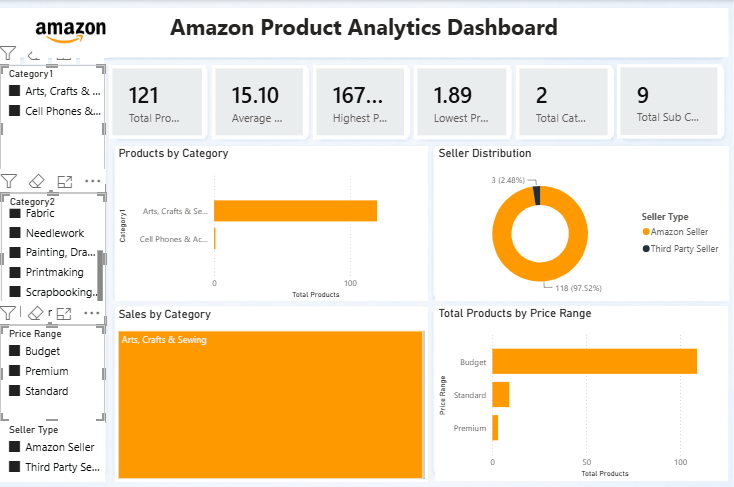

The page's visual inventory and layout, read from the dashboard file:
{"tool":"powerbi","page":{"name":"Page 1","canvas":[1280,720],"ordinal":0},"visuals":[{"type":"image","box":[5.3,0,1270.7,720.4],"z":0},{"type":"textbox","box":[108.9,11.5,1065.6,72],"z":1000},{"type":"cardVisual","fields":{"Data":["Amazon.Total Products"]},"box":[267.6,94.7,141.3,108.4],"z":2000},{"type":"cardVisual","fields":{"Data":["Amazon.Average Price"]},"box":[418.5,94.7,138.2,108.8],"z":3000},{"type":"cardVisual","fields":{"Data":["Amazon.Highest Price"]},"box":[566.7,94.7,138.2,108.8],"z":4000},{"type":"cardVisual","fields":{"Data":["Amazon.Lowest Price"]},"box":[713.6,94.5,140.6,108.8],"z":5000},{"type":"cardVisual","fields":{"Data":["Amazon.Total Categories"]},"box":[863.6,94.5,139.4,108.8],"z":6000},{"type":"cardVisual","fields":{"Data":["Amazon.Total Sub Categories"]},"box":[1011.8,93.6,152.7,109.1],"z":7000},{"type":"clusteredBarChart","title":" Products by Category","fields":{"Category":["Amazon.Category1"],"Y":["Amazon.Total Products"]},"box":[277.3,213.6,458.2,227.3],"z":8000},{"type":"donutChart","title":"Seller Distribution","fields":{"Category":["Amazon.Seller Type"],"Y":["Amazon.Total Products"]},"box":[745.1,214.1,429.6,226.8],"z":9000},{"type":"treemap","title":"Sales by Category","fields":{"Values":["Amazon.Total Sales"],"Group":["Amazon.Category1"]},"box":[277.2,449.1,457.9,256.1],"z":10000},{"type":"clusteredBarChart","fields":{"Y":["Amazon.Total Products"],"Category":["Amazon.Price Range"]},"box":[745.5,448.5,428.8,256.1],"z":11000},{"type":"slicer","fields":{"Values":["Amazon.Category1"]},"box":[108.8,95,153.8,187.5],"z":12000},{"type":"slicer","fields":{"Values":["Amazon.Category2"]},"box":[110,282.5,153.8,192.5],"z":13000},{"type":"slicer","fields":{"Values":["Amazon.Price Range"]},"box":[108.8,475,153.8,142.5],"z":14000},{"type":"slicer","fields":{"Values":["Amazon.Seller Type"]},"box":[108.8,616.2,153.8,88.8],"z":15000},{"type":"image","box":[108.8,11.2,207.5,72.5],"z":16000}]}

Visuals, with their boxes on the page's 1280x720 design canvas (x1, y1, x2, y2). These are canvas units, not pixel positions in the 734x487 screenshot, which may show the page scaled, cropped or inside an application window:
image: rect(5, 0, 1276, 720)
textbox: rect(109, 12, 1174, 84)
cardVisual - Amazon.Total Products: rect(268, 95, 409, 203)
cardVisual - Amazon.Average Price: rect(418, 95, 557, 204)
cardVisual - Amazon.Highest Price: rect(567, 95, 705, 204)
cardVisual - Amazon.Lowest Price: rect(714, 94, 854, 203)
cardVisual - Amazon.Total Categories: rect(864, 94, 1003, 203)
cardVisual - Amazon.Total Sub Categories: rect(1012, 94, 1164, 203)
" Products by Category" clusteredBarChart: rect(277, 214, 736, 441)
"Seller Distribution" donutChart: rect(745, 214, 1175, 441)
"Sales by Category" treemap: rect(277, 449, 735, 705)
clusteredBarChart - Amazon.Total Products x Amazon.Price Range: rect(746, 448, 1174, 705)
slicer - Amazon.Category1: rect(109, 95, 263, 282)
slicer - Amazon.Category2: rect(110, 282, 264, 475)
slicer - Amazon.Price Range: rect(109, 475, 263, 618)
slicer - Amazon.Seller Type: rect(109, 616, 263, 705)
image: rect(109, 11, 316, 84)
